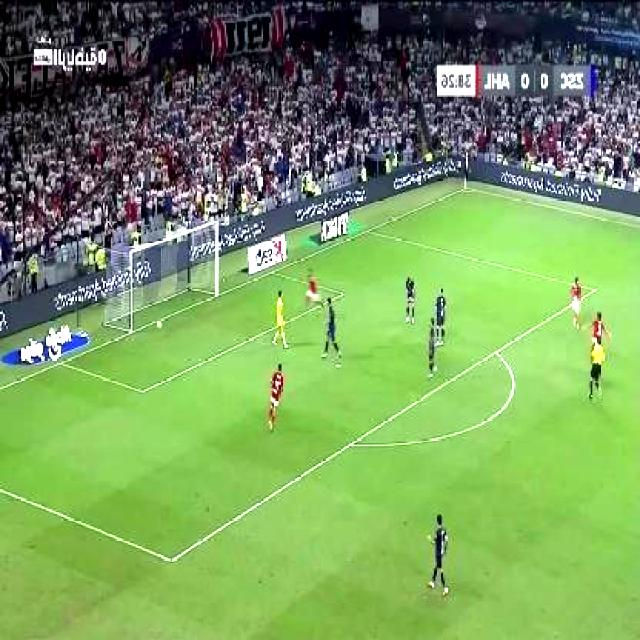bigarea_bottom_inner: (160, 543, 185, 574)
bigarea_top_inner: (588, 277, 603, 298)
bigarea_top_outter: (361, 222, 377, 238)
bottom_arc_area_intersection: (342, 431, 362, 457)
corner: (457, 180, 475, 195)
smallarea_bottom_inner: (132, 375, 152, 403)
smallarea_bottom_outter: (52, 352, 70, 371)
smallarea_top_inner: (336, 283, 352, 303)
smallarea_top_outter: (260, 262, 283, 282)
top_arc_area_intersection: (488, 340, 506, 362)
